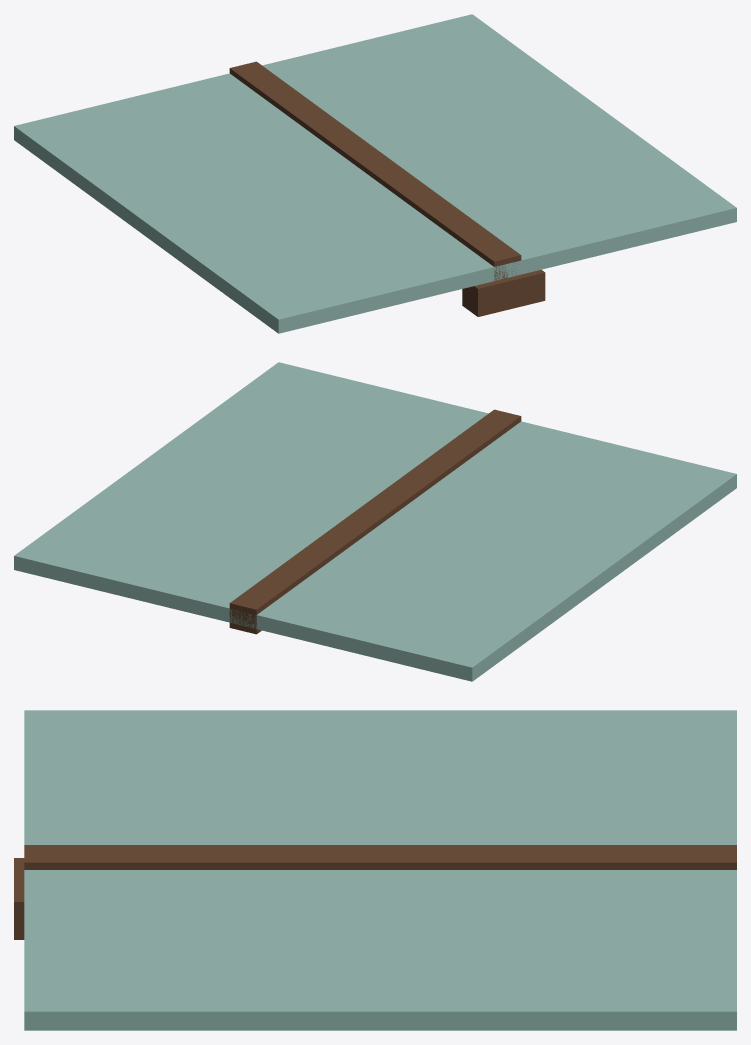
Rendered from skylight_pane.glb.
3 renders of one model, top to bottom at view 1: azimuth 30°, elevation 25°; view 2: azimuth 150°, elevation 25°; view 3: azimuth 270°, elevation 25°, orthographic. The views are drawn at different scales.
Visible parts, largest first — view 1: glass_pane_glass, bar_skylight_rust, latch_skylight_rust; view 2: glass_pane_glass, bar_skylight_rust; view 3: glass_pane_glass, bar_skylight_rust, latch_skylight_rust.
Part boxes in pixels (x1,y1,x2,y2): glass_pane_glass: (14,14,736,333); bar_skylight_rust: (229,61,521,280); latch_skylight_rust: (462,269,545,316); glass_pane_glass: (14,362,736,681); bar_skylight_rust: (229,409,521,634); glass_pane_glass: (24,710,736,1030); bar_skylight_rust: (24,845,736,869); latch_skylight_rust: (14,858,24,939).
Size of the model in its own units: 0.68 by 0.0675 by 0.69.
